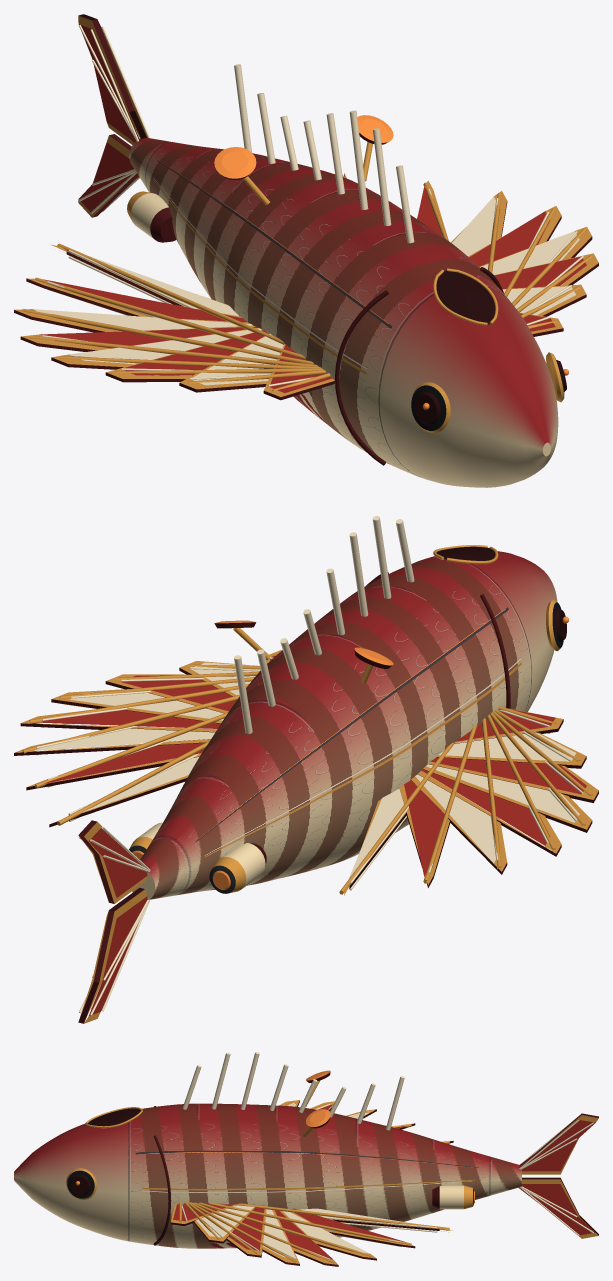
The picture shows the model from 3 angles, top to bottom: view 1: azimuth 30°, elevation 25°; view 2: azimuth 150°, elevation 25°; view 3: azimuth 270°, elevation 25°; orthographic projection. The views are drawn at different scales.
Visible parts, largest first — view 1: lionfish_hull; view 2: lionfish_hull; view 3: lionfish_hull.
Part boxes in pixels (x1,y1,x2,y2): lionfish_hull: (14, 14, 598, 487); lionfish_hull: (14, 516, 598, 1023); lionfish_hull: (14, 1052, 598, 1266).
Bounding box in the file's own units: 25.23 × 13.71 × 38.
Materials: 1 (1 with a texture image).
